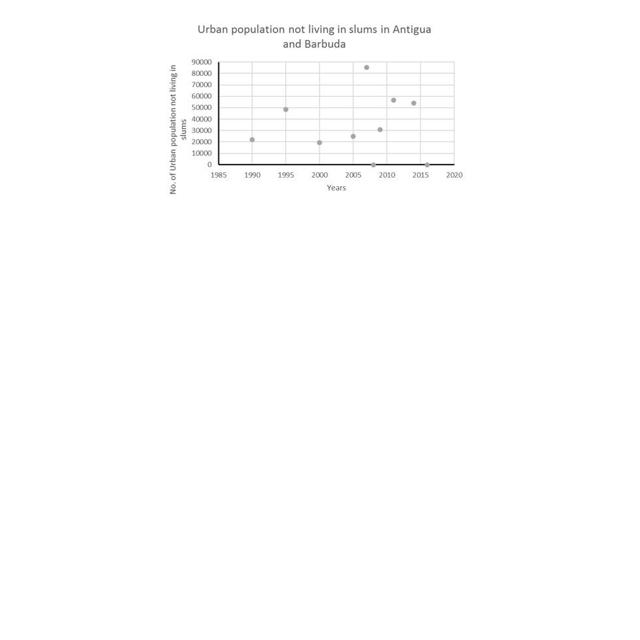Graph: (161, 18, 467, 198)
